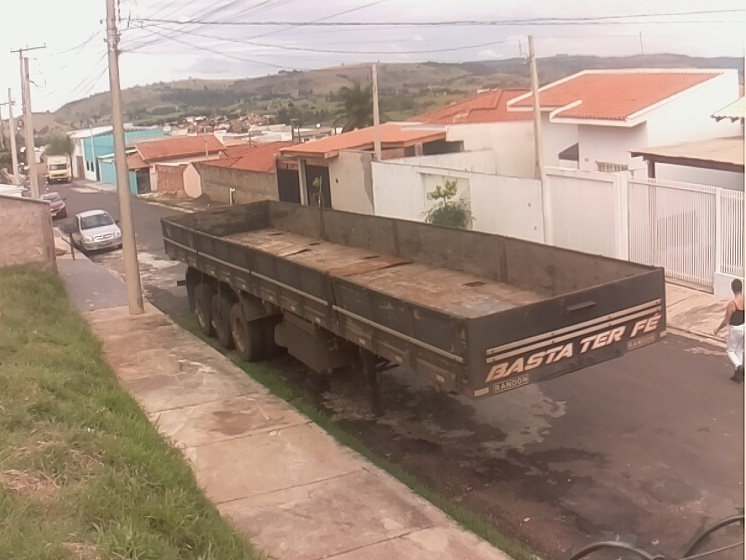person: (715, 275, 746, 386)
